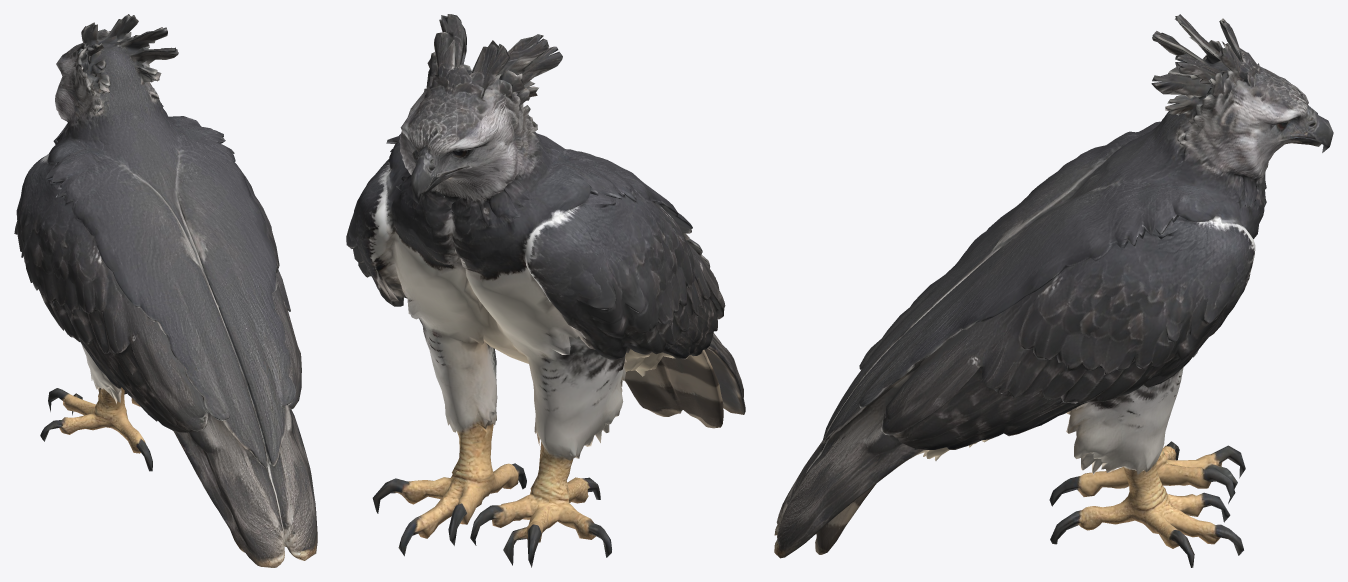
Rendered from harpy-tripo-h31.glb.
The picture shows the model from 3 angles, left to right: view 1: azimuth 30°, elevation 25°; view 2: azimuth 150°, elevation 25°; view 3: azimuth 270°, elevation 25°; orthographic projection. The views are drawn at different scales.
Parts seen in each view (by area): view 1: tripo_node_a79a1beb-1dca-4741-99ec-114efd58bf83; view 2: tripo_node_a79a1beb-1dca-4741-99ec-114efd58bf83; view 3: tripo_node_a79a1beb-1dca-4741-99ec-114efd58bf83.
Part boxes in pixels (box(x1,y1,x2,y2)): tripo_node_a79a1beb-1dca-4741-99ec-114efd58bf83: box(14, 14, 317, 567); tripo_node_a79a1beb-1dca-4741-99ec-114efd58bf83: box(346, 14, 745, 567); tripo_node_a79a1beb-1dca-4741-99ec-114efd58bf83: box(774, 14, 1333, 567).
Bounding box in the file's own units: 0.5422 × 0.981 × 0.9661.
1 material, 1 textured.
